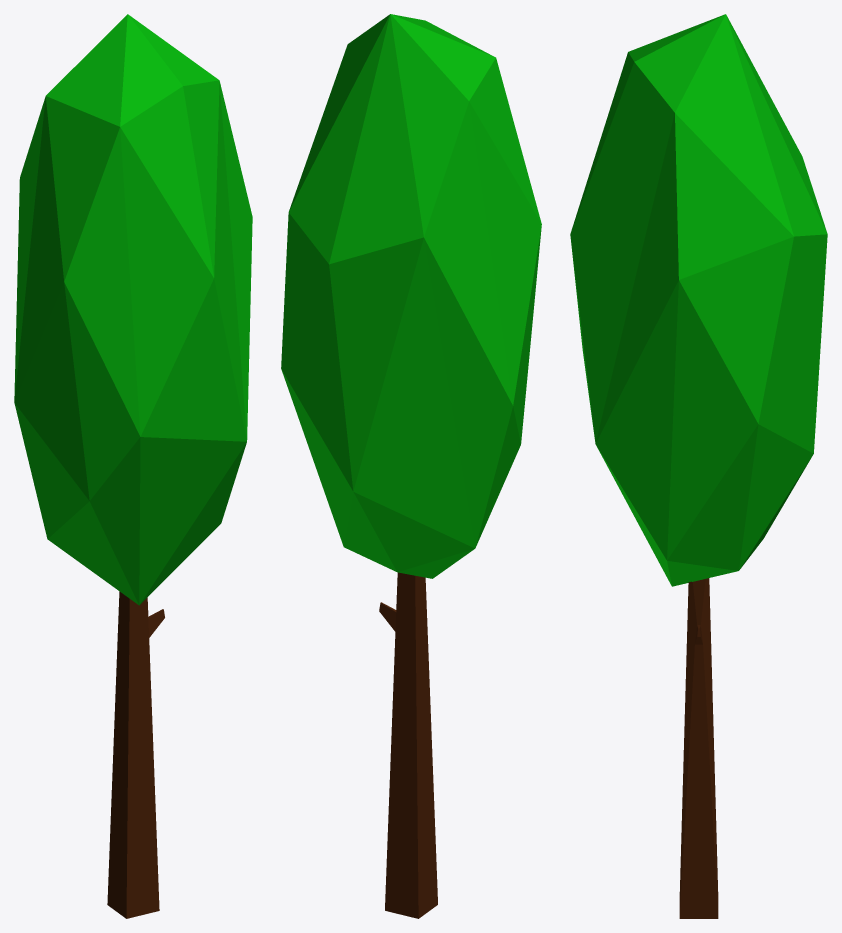
The model's file is Tree (2).fbx.
3 renders of one model, left to right at view 1: azimuth 30°, elevation 25°; view 2: azimuth 150°, elevation 25°; view 3: azimuth 270°, elevation 25°, orthographic. The views are drawn at different scales.
Parts seen in each view (by area): view 1: Tree, Tree.002; view 2: Tree, Tree.002; view 3: Tree, Tree.002.
Boxes of the visible parts, x1,y1,x2,y2 form: Tree: [14, 14, 252, 605]; Tree.002: [107, 591, 164, 918]; Tree: [281, 14, 541, 578]; Tree.002: [379, 572, 437, 918]; Tree: [570, 14, 827, 586]; Tree.002: [679, 578, 718, 918].
Bounding box in the file's own units: 298 × 1150 × 298.
